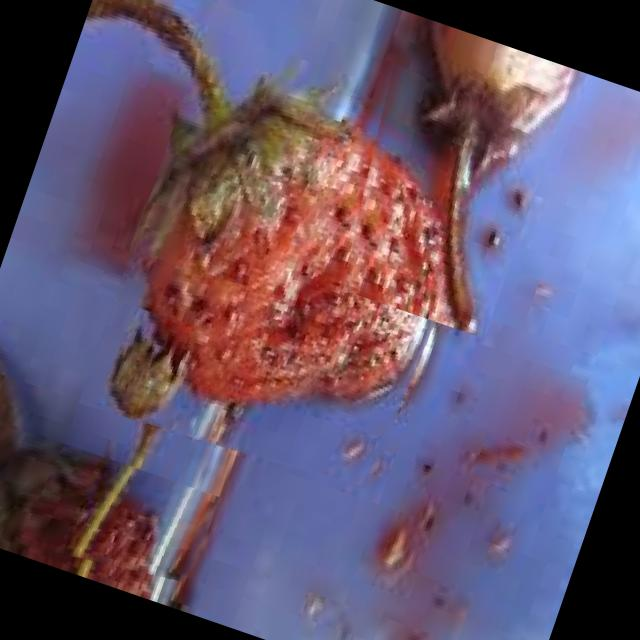Organic: (78, 41, 508, 508), (313, 11, 576, 338), (0, 411, 224, 612)
